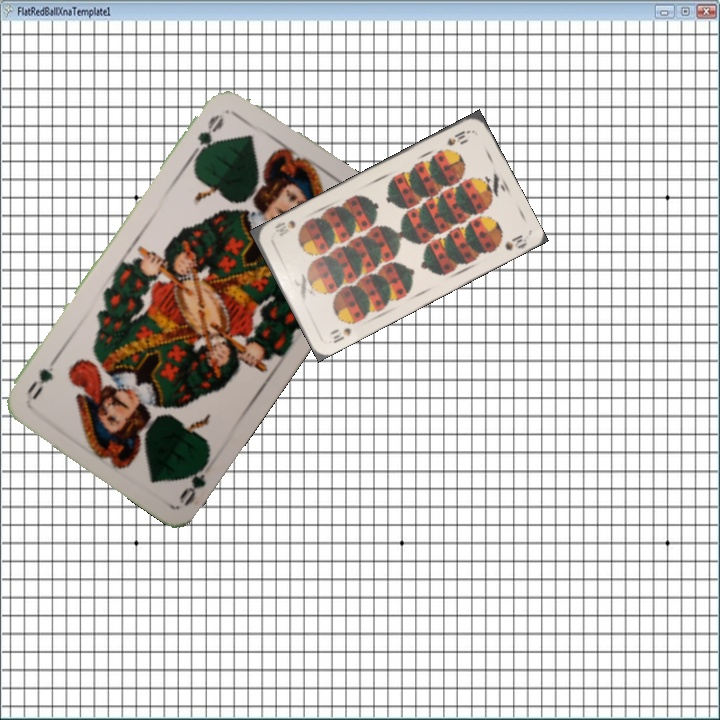GO: (175, 451, 212, 508), (186, 110, 227, 161)
S10: (325, 323, 354, 346), (443, 126, 472, 148)
